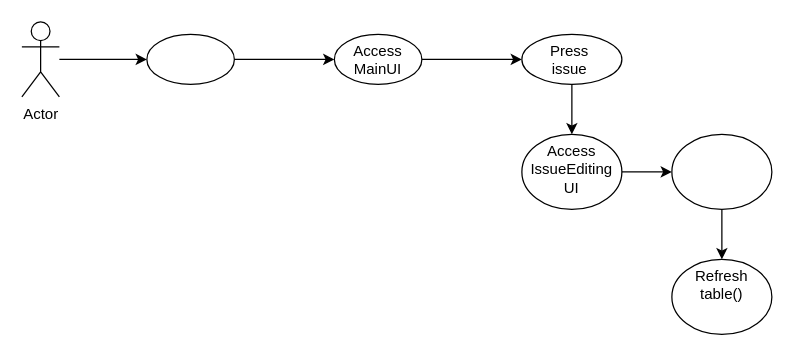
Image size: 794x356. Some labels were removed from this diagram. Here are the shapes that lost their labels. From the top down, the centre of each, then its label:
At point 190,58: "Logins".
At point 721,171: "Edit Values and Save".
